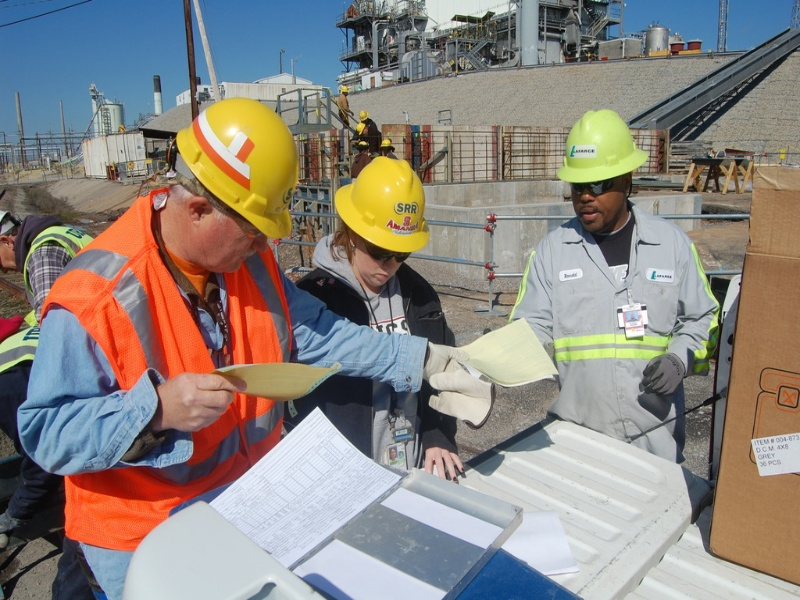Baret: (171, 99, 297, 238), (335, 154, 431, 253), (558, 110, 650, 179)
